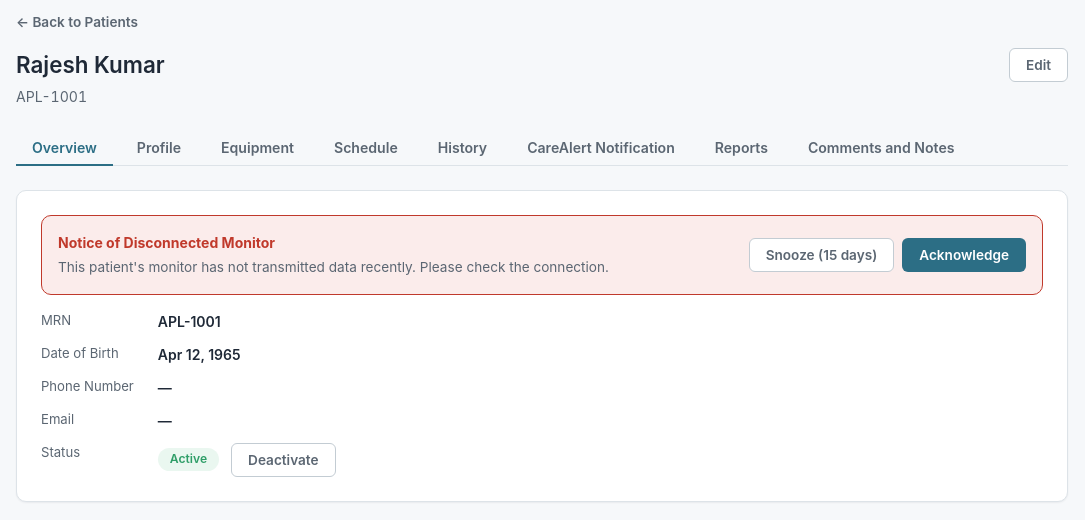
Test: PatientDetailComponent › renders the Schedule tab with the clinic-default interval and a read-only input
Click the button with class "tab" showing "Schedule": x=366, y=149 [318,131,414,166]
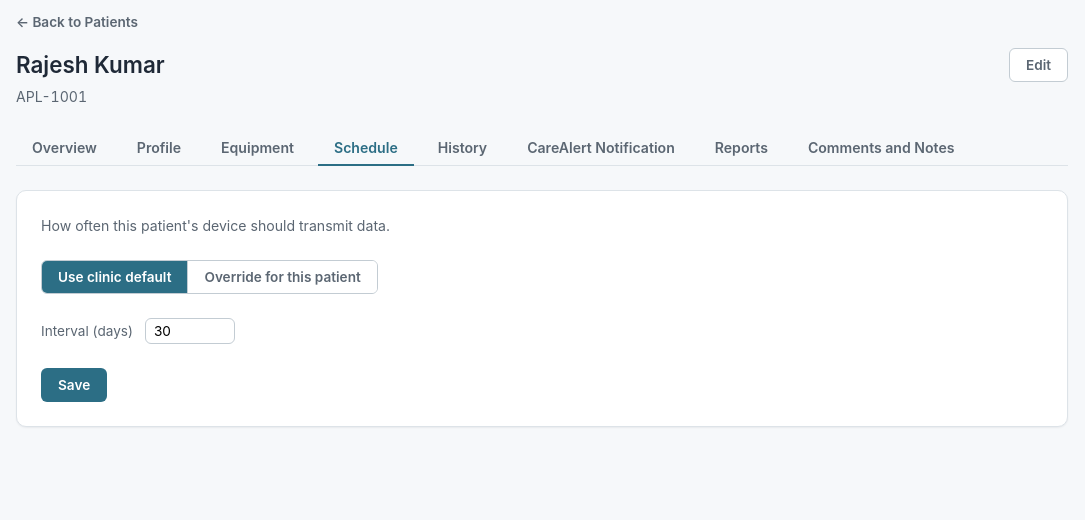
Check: the number field labelled "Interval (days)" holds "30", box [145,318,235,344]
